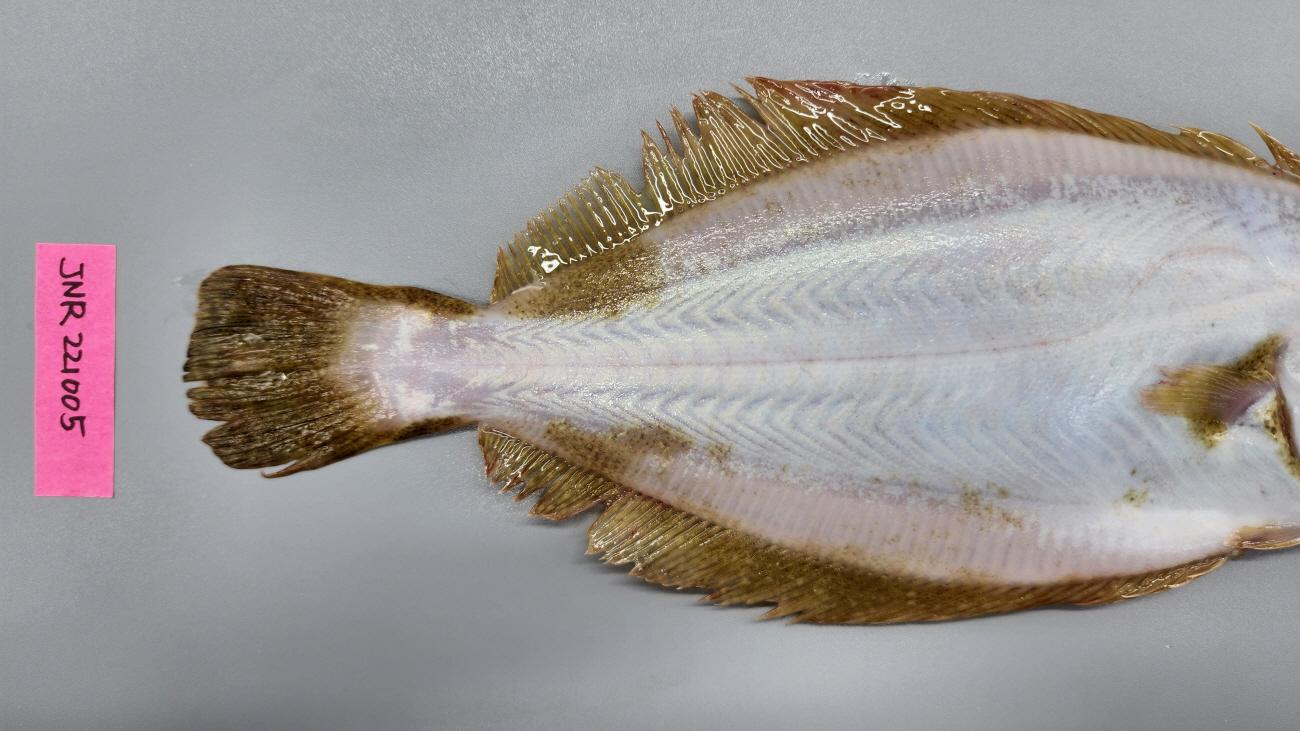POOUN: (178, 74, 1300, 630)
